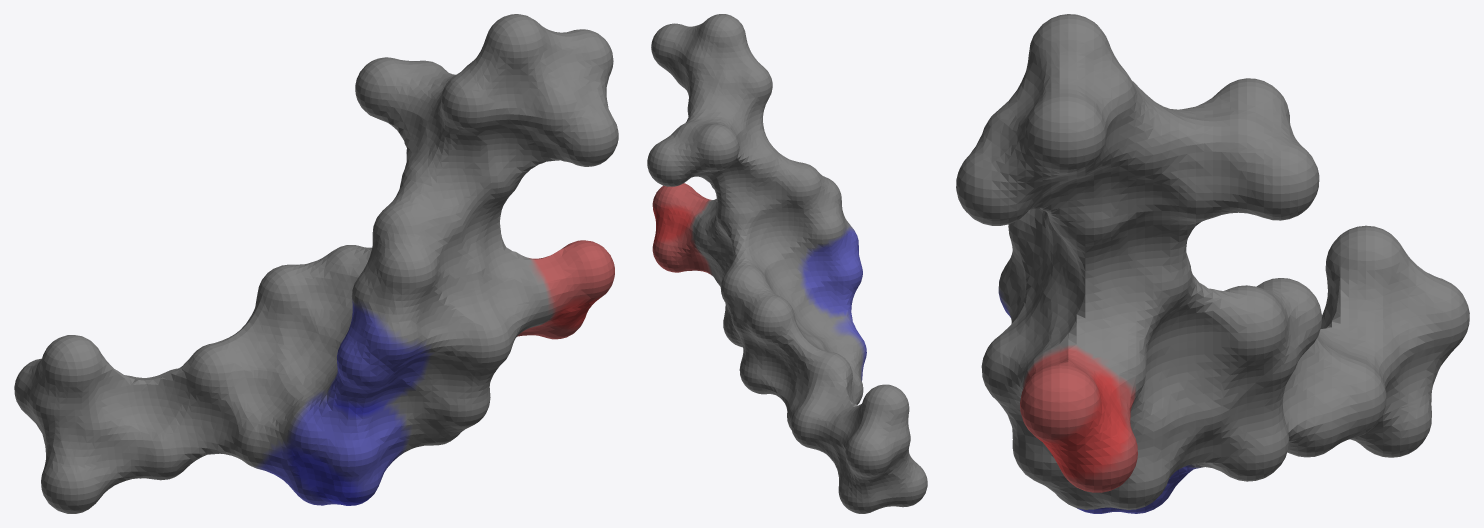
File: 1AKJ_C_0.25.fbx
The picture shows the model from 3 angles, left to right: view 1: azimuth 30°, elevation 25°; view 2: azimuth 150°, elevation 25°; view 3: azimuth 270°, elevation 25°; orthographic projection. The views are drawn at different scales.
Visible parts, largest first — view 1: 1AKJ.pdb_C_0.25; view 2: 1AKJ.pdb_C_0.25; view 3: 1AKJ.pdb_C_0.25.
Boxes of the visible parts, x1,y1,x2,y2 form: 1AKJ.pdb_C_0.25: (14,14,618,513); 1AKJ.pdb_C_0.25: (647,14,927,513); 1AKJ.pdb_C_0.25: (956,14,1469,513).
Size of the model in its own units: 2024 by 2048 by 1509.
